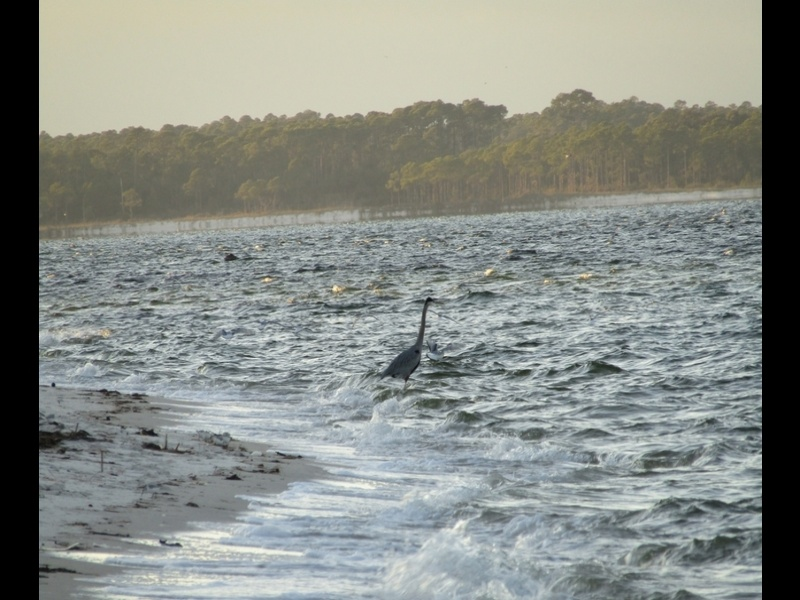heron: (378, 295, 436, 393)
